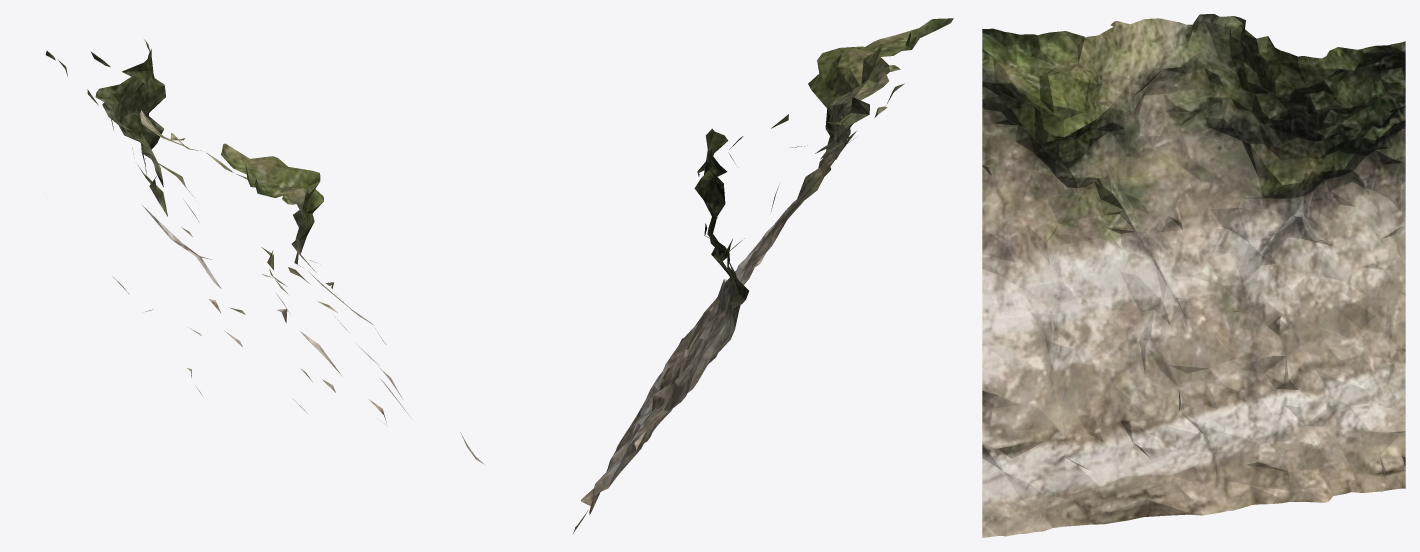
3 views of the same model, side by side, from view 1: azimuth 30°, elevation 25°; view 2: azimuth 150°, elevation 25°; view 3: azimuth 270°, elevation 25° (orthographic). The views are drawn at different scales.
Bounding box in the file's own units: 4.62 × 5.9 × 5.9.
Materials: 3 (3 with a texture image).
